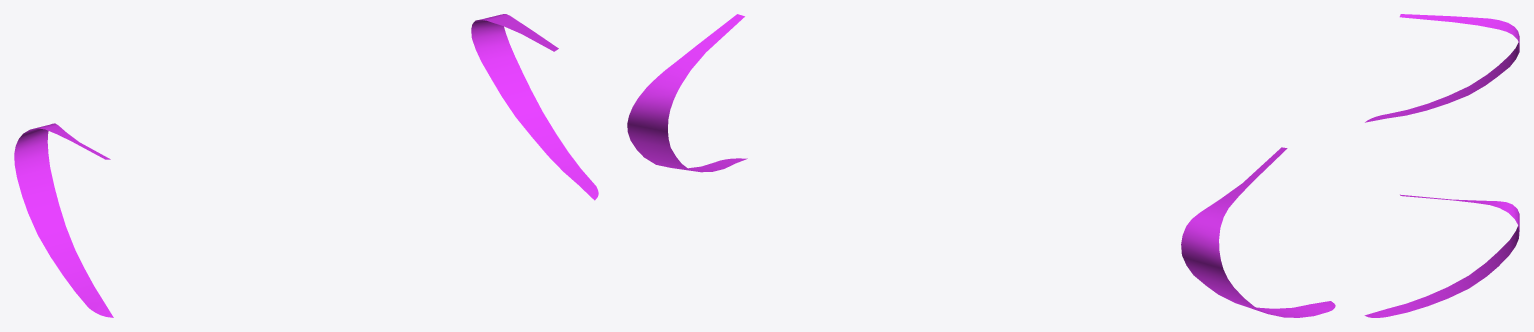
File: Veyron_Fender01_Detail.fbx
3 renders of one model, left to right at view 1: azimuth 30°, elevation 25°; view 2: azimuth 150°, elevation 25°; view 3: azimuth 270°, elevation 25°, orthographic. The views are drawn at different scales.
Visible parts, largest first — view 1: Veyron_Fender01_Detail; view 2: Veyron_Fender01_Detail; view 3: Veyron_Fender01_Detail.
Boxes of the visible parts, x1,y1,x2,y2 form: Veyron_Fender01_Detail: [14, 14, 598, 317]; Veyron_Fender01_Detail: [627, 14, 1335, 317]; Veyron_Fender01_Detail: [1364, 14, 1519, 317].
Bounding box in the file's own units: 188 × 49.29 × 60.88.
